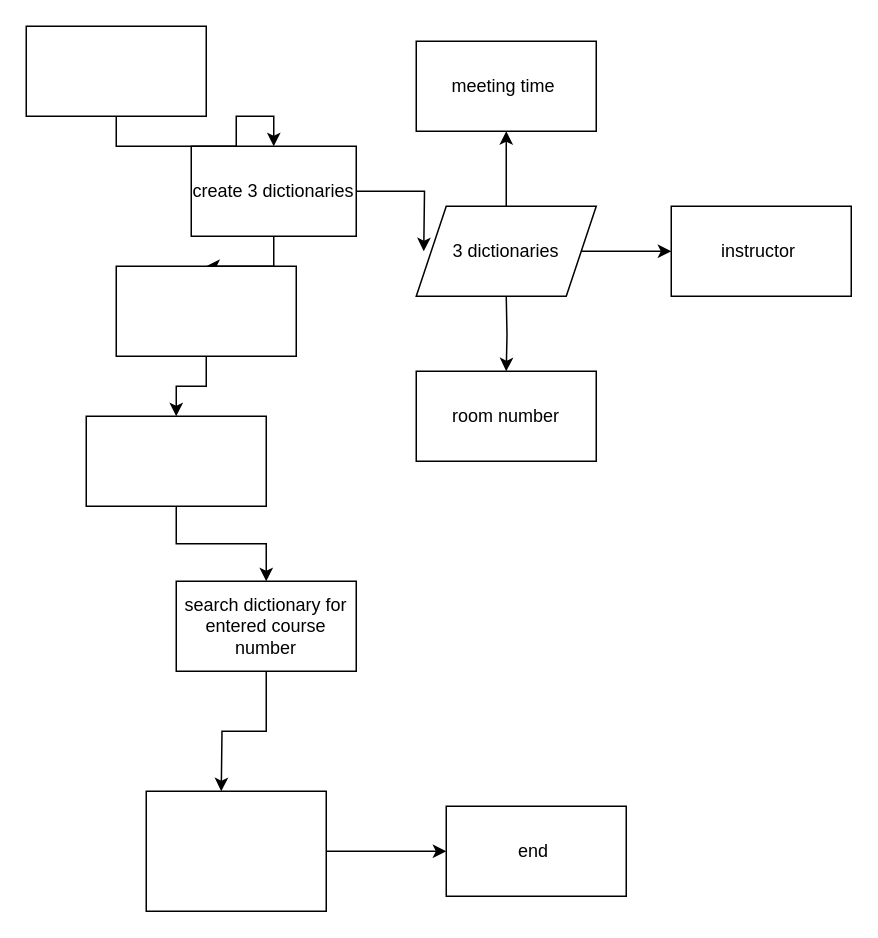
Image size: 878x938. Some labels were removed from this diagram. The shapes that lost their labels are listed below. From the top down, each one's centre as x and y in pixels, then its label:
the point at 115,70: start
the point at 205,310: call main function
the point at 175,460: prompt user to use imput
the point at 235,850: display room number, instructor, and meeting time of imputed class number
